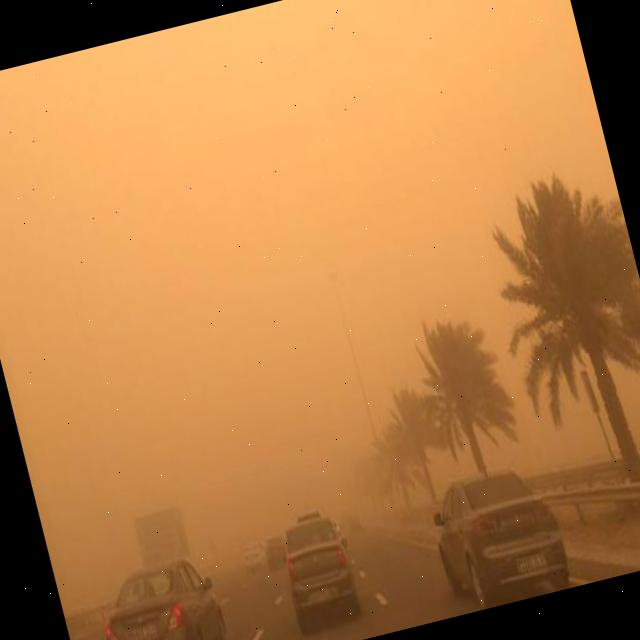car: (424, 460, 574, 614), (89, 547, 240, 640), (275, 512, 363, 626), (261, 532, 289, 569), (240, 540, 268, 570)
